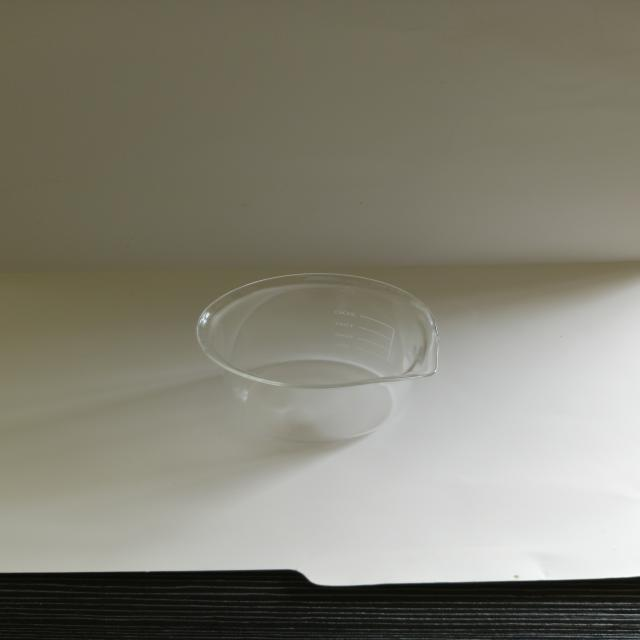beaker: (185, 267, 452, 445)
